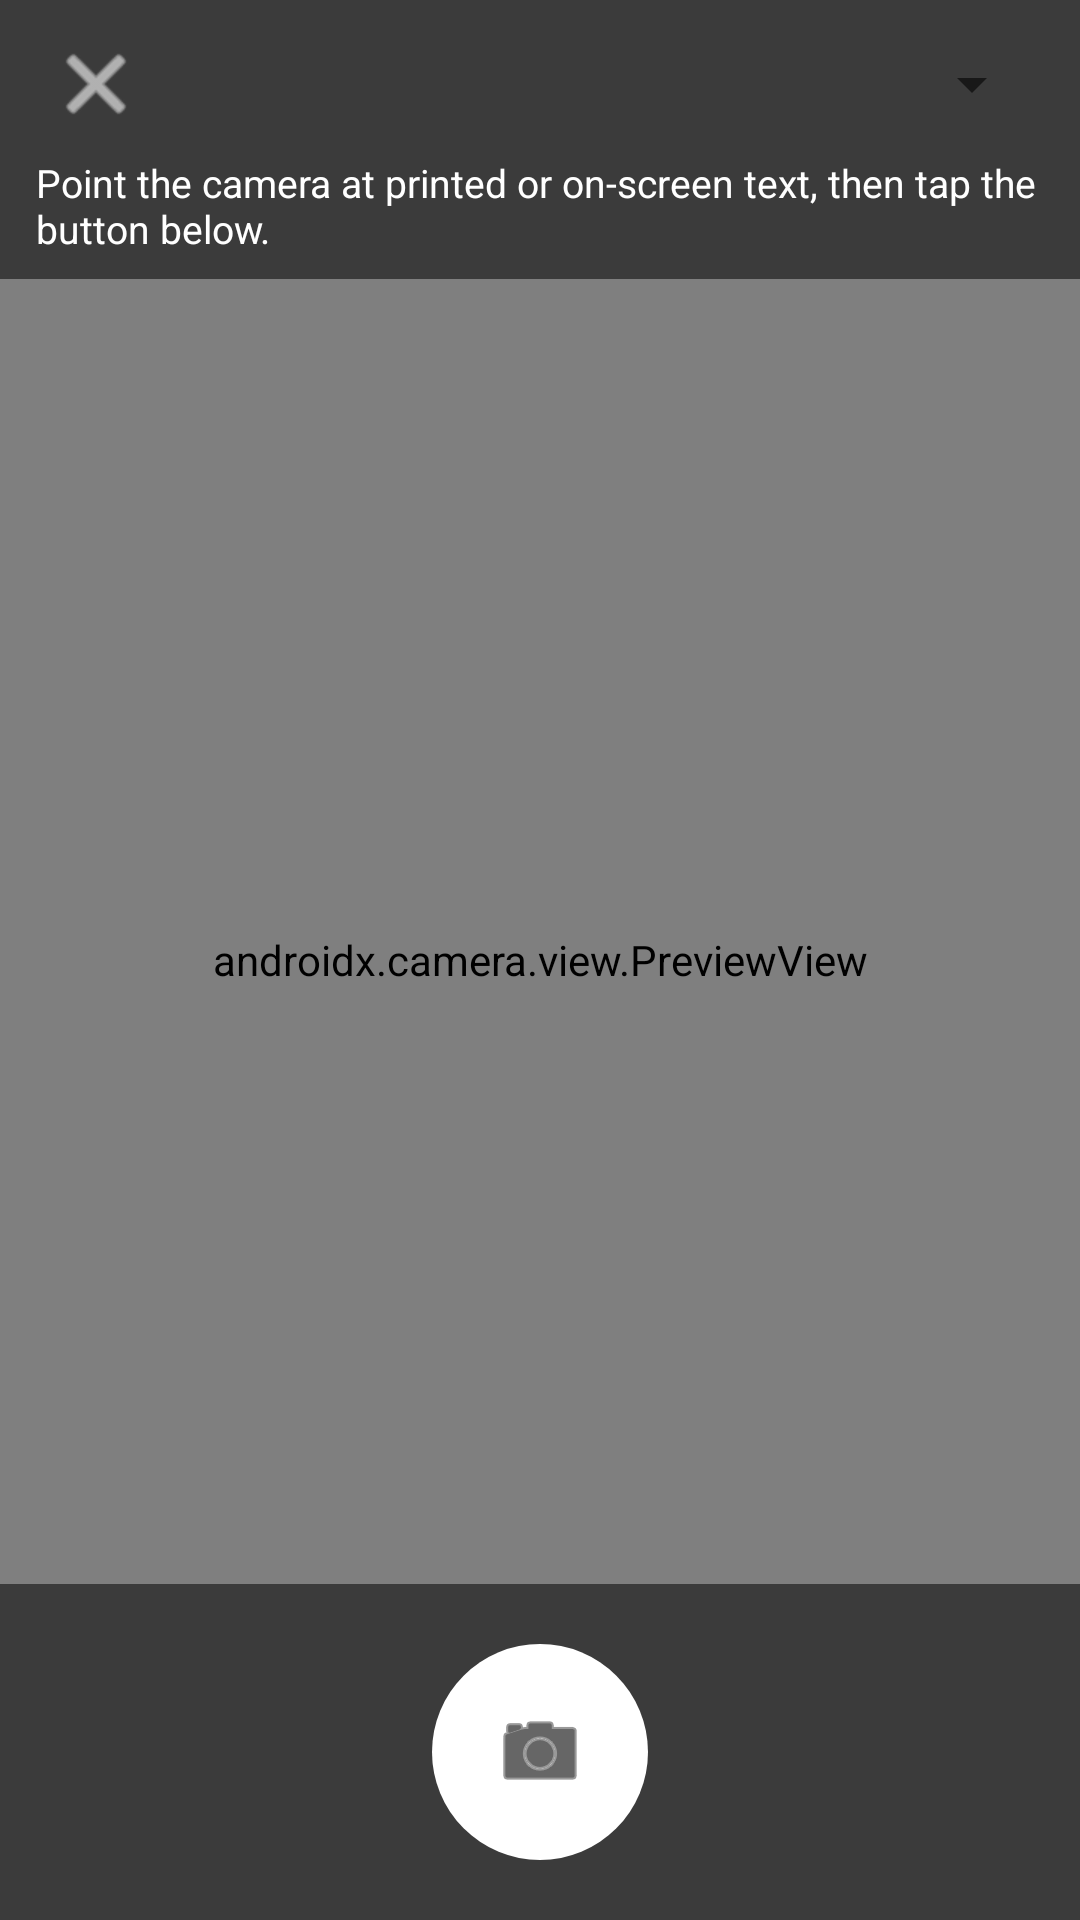

Screen size 1080px x 1920px. Icon name, then its box in pixels as (x1, y1, x2, y2):
Capture: (432, 1644, 648, 1860)
Close camera: (66, 54, 126, 114)
